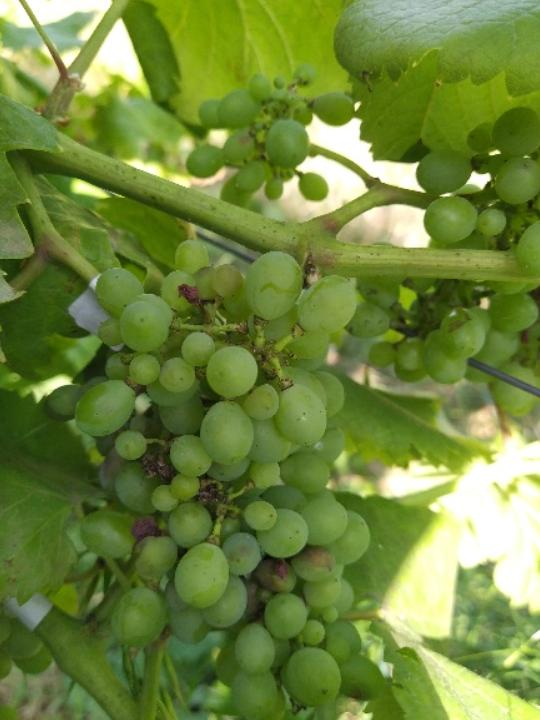grape: (43, 238, 391, 720), (352, 105, 540, 417), (183, 65, 361, 210)
